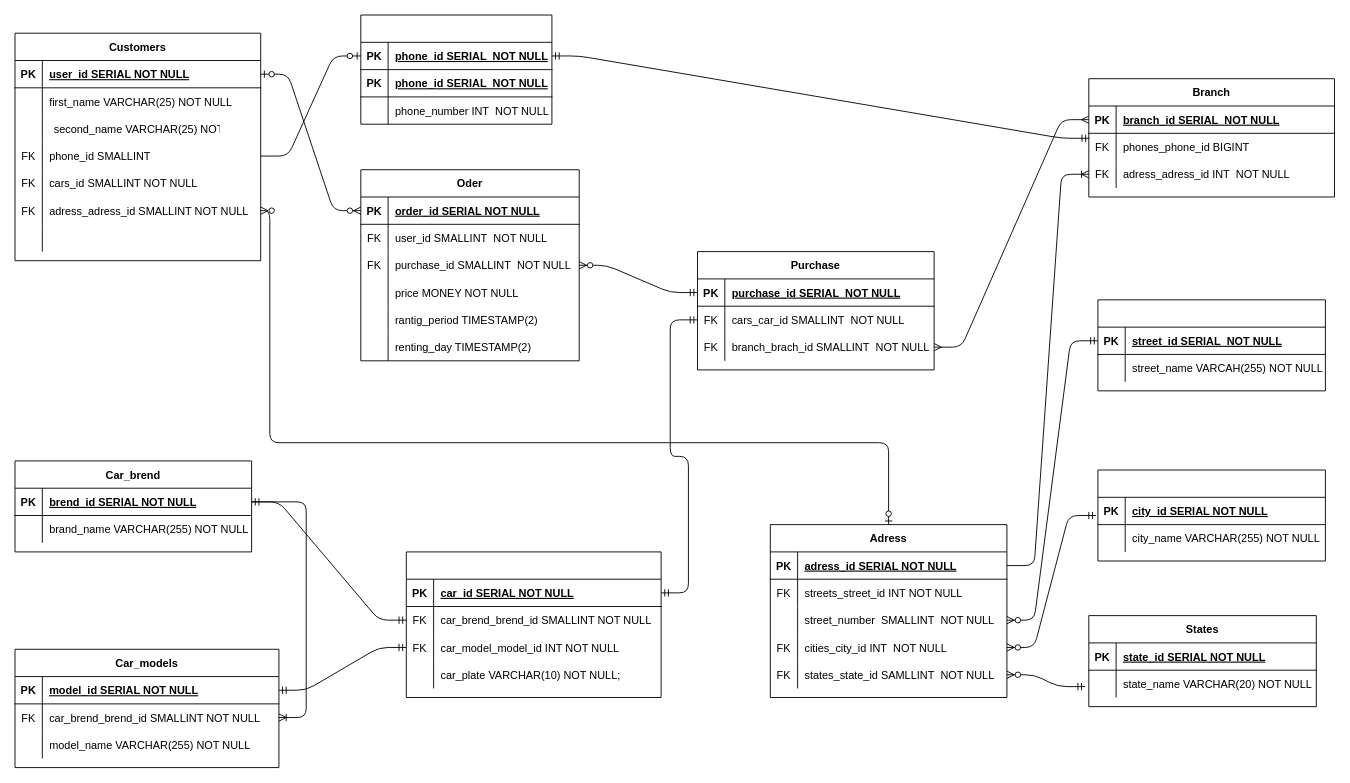
This 1350x783 diagram has some shape labels left out. Here are the shapes that lost their labels. From the top down, the box of each, then its label:
(360, 14, 552, 124): Phones
(1097, 299, 1325, 391): Streets
(1097, 469, 1325, 561): Cities
(405, 551, 661, 698): Cars
